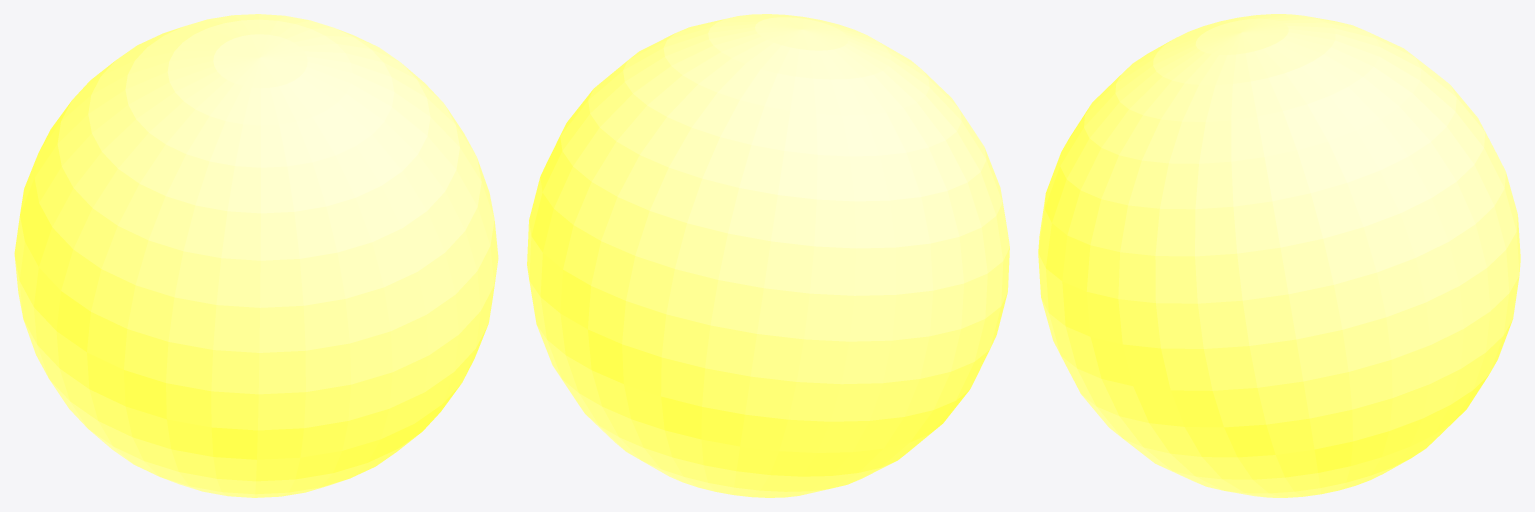
The model's file is earthrunnerglobe.glb.
The picture shows the model from 3 angles, left to right: view 1: azimuth 30°, elevation 25°; view 2: azimuth 150°, elevation 25°; view 3: azimuth 270°, elevation 25°; orthographic projection.
Visible parts, largest first — view 1: Sphere; view 2: Sphere; view 3: Sphere.
Boxes of the visible parts, <box> form: Sphere: <box>14,14,498,497</box>; Sphere: <box>527,14,1009,497</box>; Sphere: <box>1038,14,1520,497</box>.
Bounding box in the file's own units: 6 × 6.04 × 6.02.
